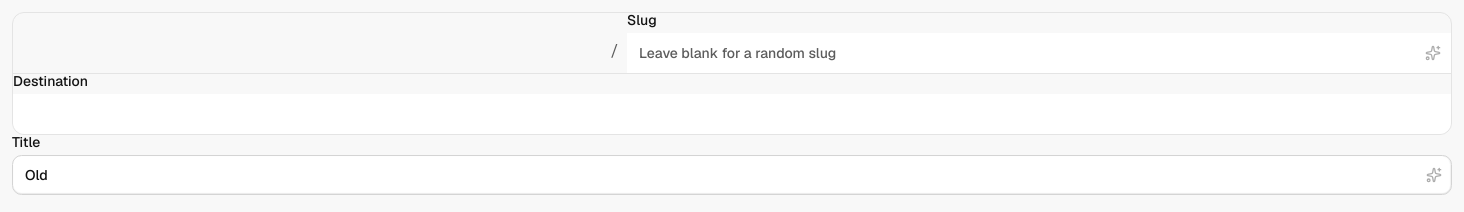
Test: link editor suggestions › shows a failed slug suggestion in the field tooltip
Type "https://example.com" into the field labelled "Destination" at (732, 114), box [13, 94, 1451, 134]
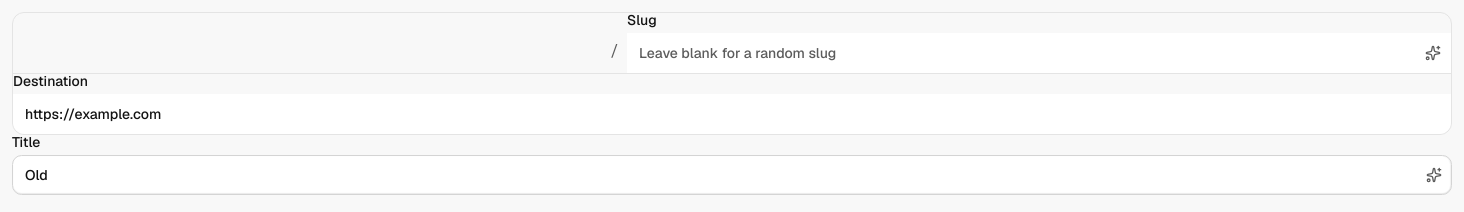
Click the button named "Suggest a slug" at (1433, 53), box [1419, 39, 1447, 67]
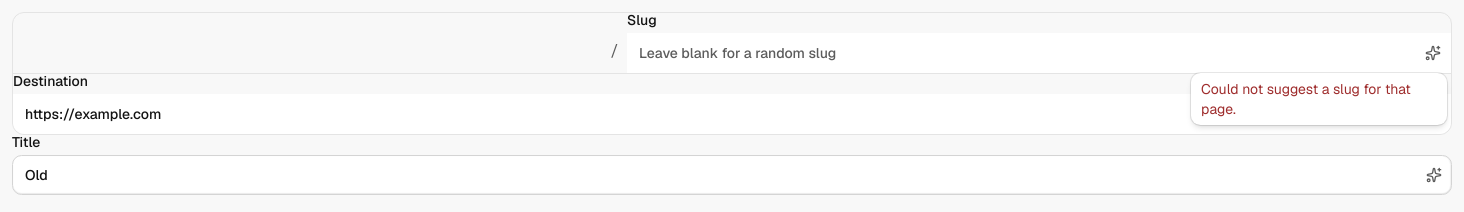
Result: the tooltip reads "Could not suggest a slug for that page." at [1201, 80, 1411, 118]
Type "mine" into the field labelled "Slug" at (1039, 53), box [627, 33, 1451, 73]
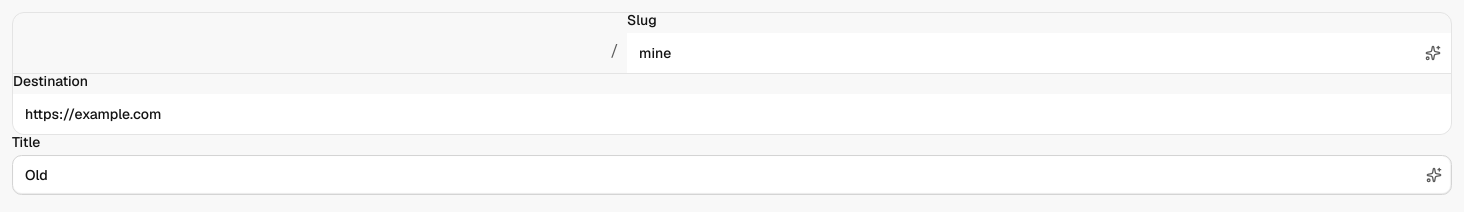
Result: the tooltip "Could not suggest a slug for that page." is gone
